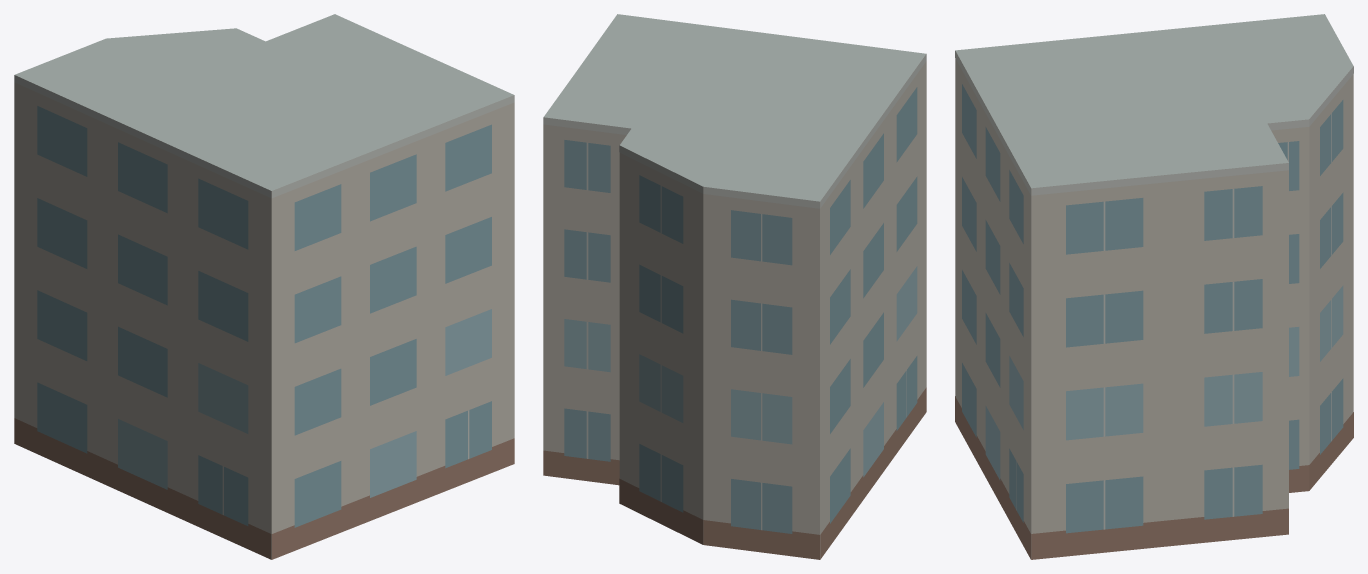
The model's file is residential-7cd46bf4-a7bf-408e-870d-2b39035c84ec.glb.
3 views of the same model, side by side, from view 1: azimuth 30°, elevation 25°; view 2: azimuth 150°, elevation 25°; view 3: azimuth 270°, elevation 25° (orthographic). The views are drawn at different scales.
Visible parts, largest first — view 1: residential-7cd46bf4-a7bf-408e-870d-2b39035c84ec.tmp; view 2: residential-7cd46bf4-a7bf-408e-870d-2b39035c84ec.tmp; view 3: residential-7cd46bf4-a7bf-408e-870d-2b39035c84ec.tmp.
Boxes of the visible parts, <box> form: residential-7cd46bf4-a7bf-408e-870d-2b39035c84ec.tmp: <box>14,14,514,559</box>; residential-7cd46bf4-a7bf-408e-870d-2b39035c84ec.tmp: <box>543,14,926,559</box>; residential-7cd46bf4-a7bf-408e-870d-2b39035c84ec.tmp: <box>955,14,1353,559</box>.
Size of the model in its own units: 12.28 by 12.2 by 11.87.
